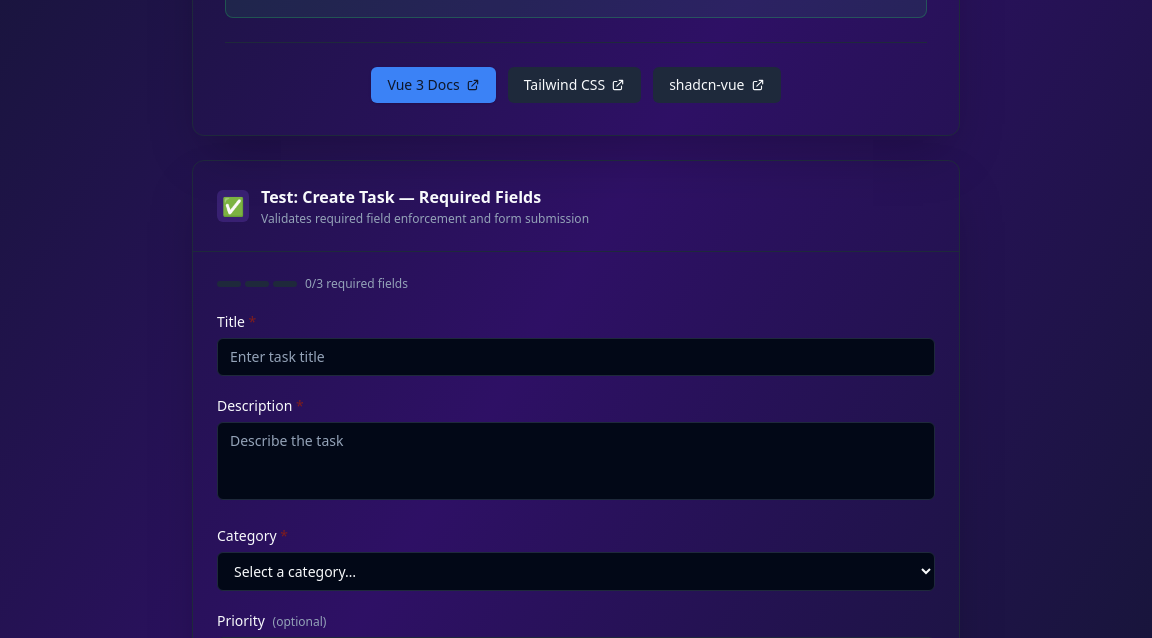
Create Task — Required Fields › shows success message when all required fields are filled
(page scrolled)
Type "Fix login bug" into the field with id "task-title" at (576, 357), box [217, 338, 935, 376]
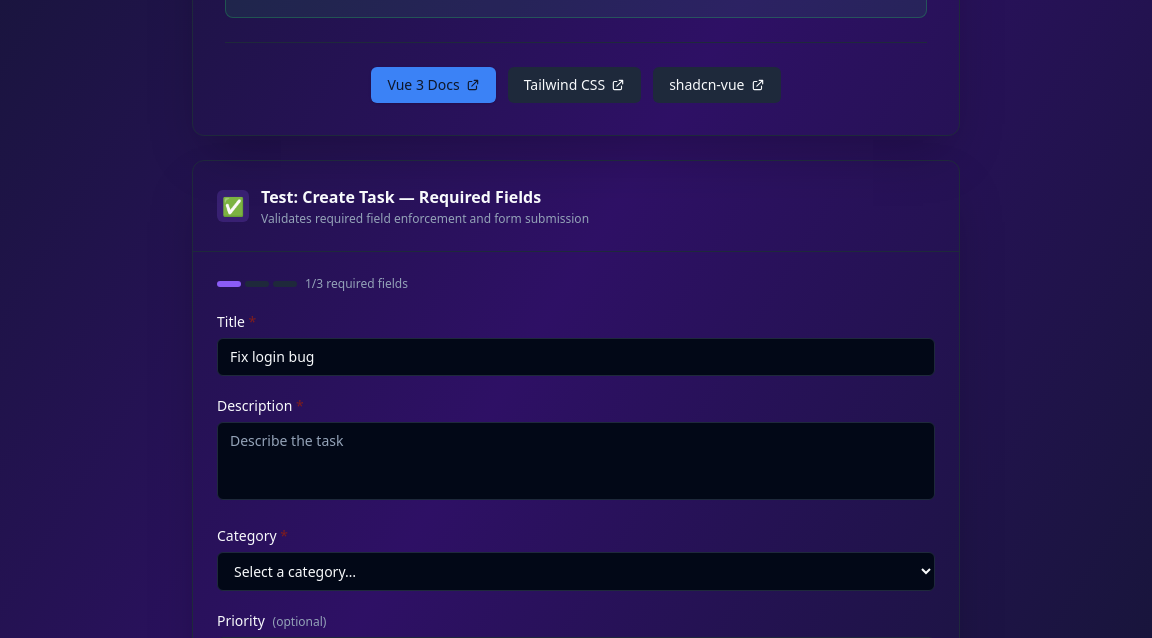
Type "The login form submits without validation" into the text box with id "task-description" at (576, 461), box [217, 422, 935, 500]
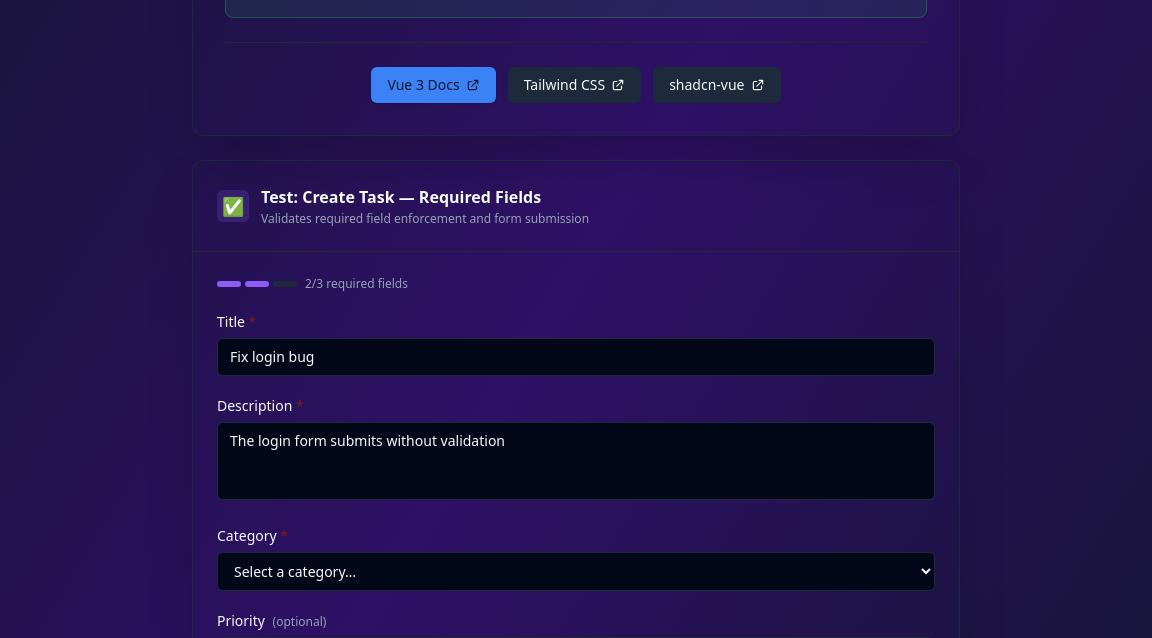
Select "Bug Fix" in the dropdown with id "task-category" at (576, 572), box [217, 552, 935, 591]
(page scrolled)
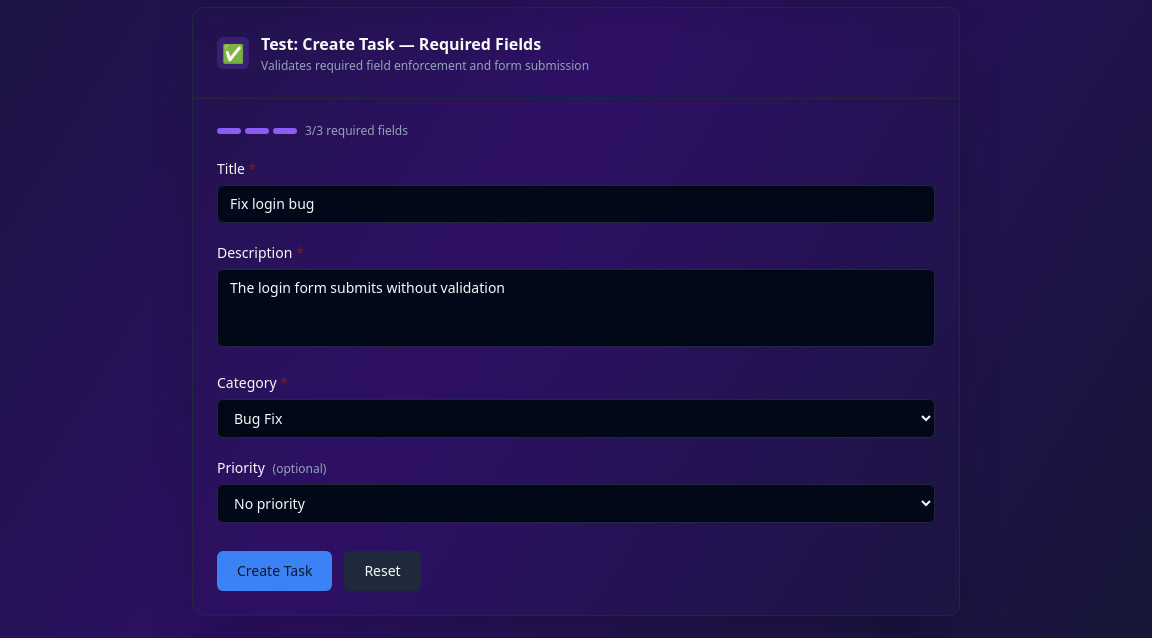
Submit the form, box [217, 123, 935, 591]
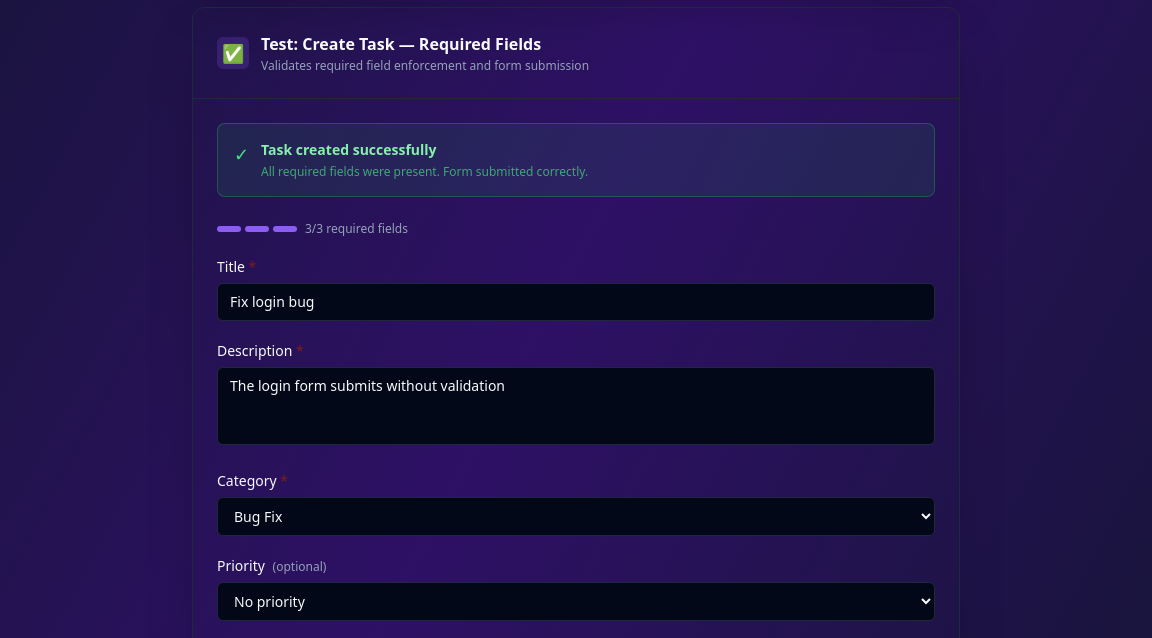
Result: the text "Task created successfully" is shown at [261, 140, 436, 159]
